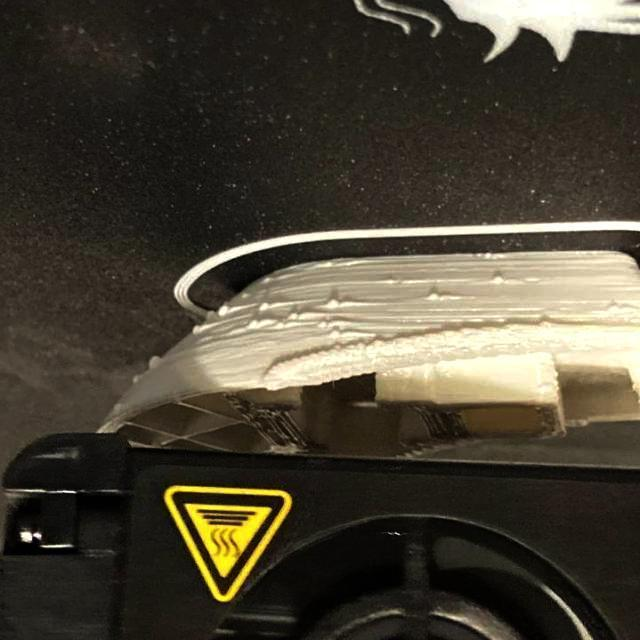zits: (320, 324, 348, 347), (320, 290, 344, 314), (249, 293, 273, 315), (216, 299, 233, 321), (281, 308, 301, 326), (484, 272, 504, 290), (147, 352, 162, 374), (424, 288, 444, 304), (244, 317, 260, 333), (188, 322, 204, 338)
